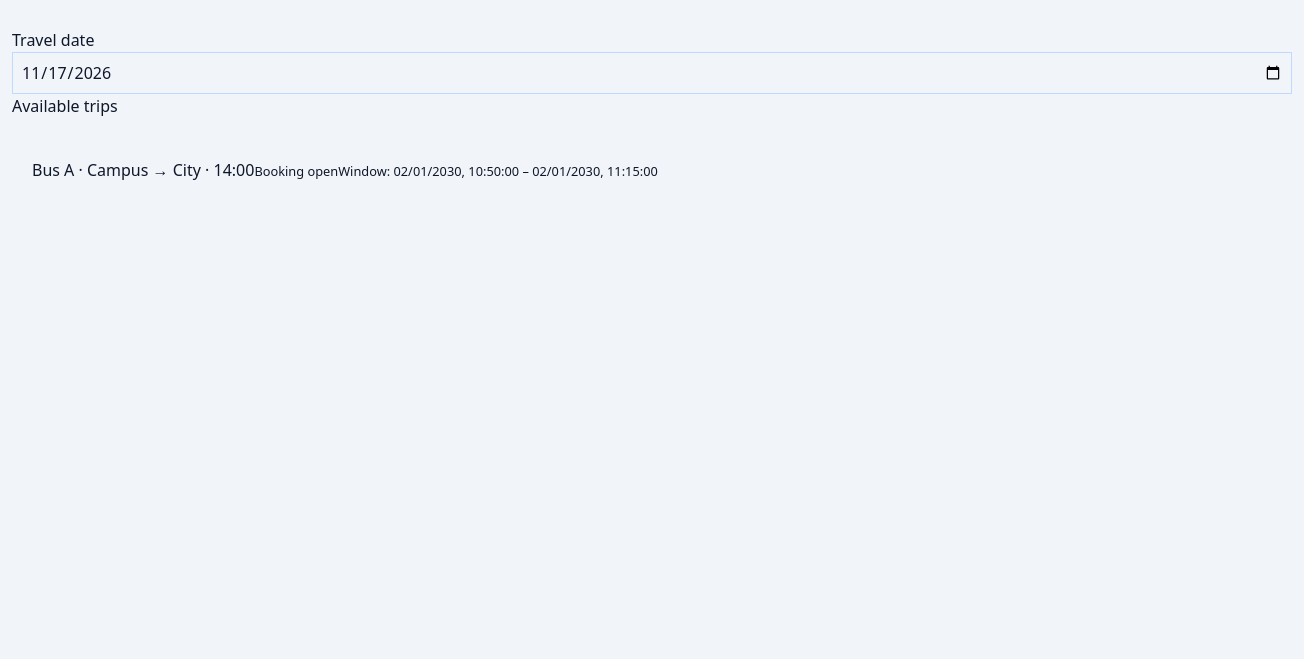
Test: Member 2 student pages › selects trip, seat and confirms booking with in-app success feedback
Expected: the date field labelled "Travel date" is shown, [12, 52, 1292, 94]
Click the button "Bus A". click: [652, 171]
box: [12, 138, 1292, 204]
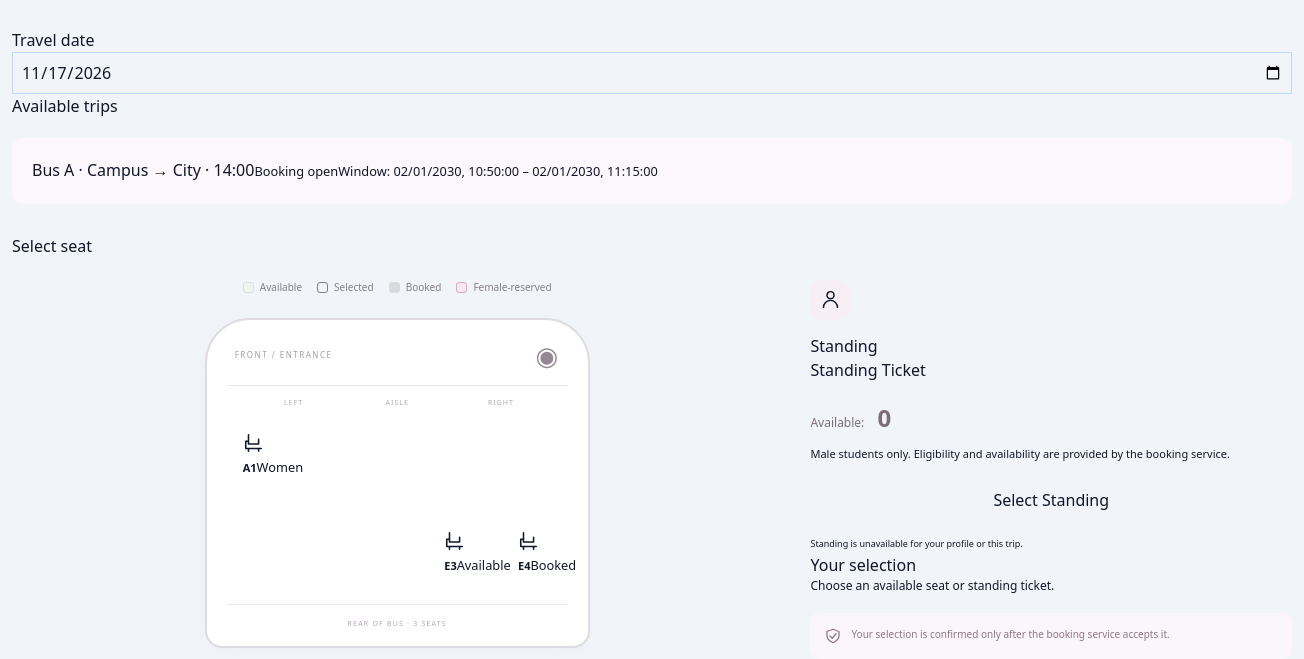
Now the button with aria-label "Seat 1 Reserved" is disabled, box [227, 424, 292, 486]
Now the button with aria-label "Seat 20 Booked" is disabled, box [502, 522, 568, 584]
Click the button with aria-label "Seat 19 Available". click: [461, 553]
box: [428, 522, 494, 584]
(page scrolled)
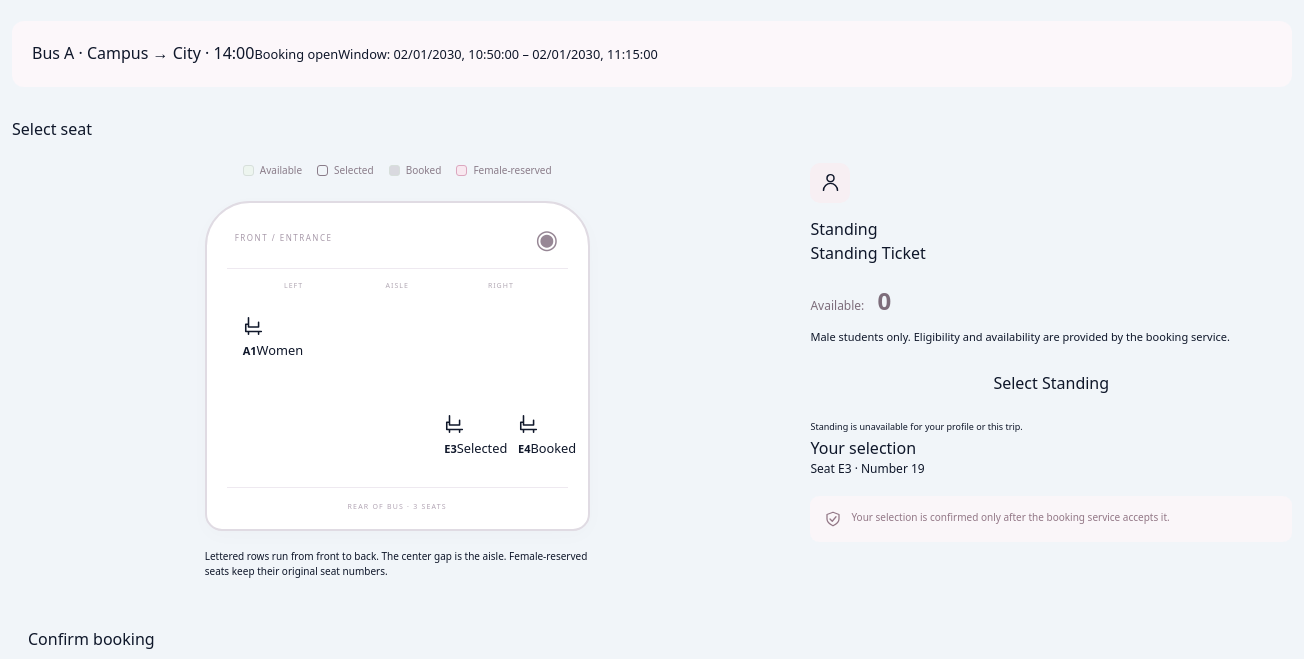
Now the button with aria-label "Seat 19 Selected" is pressed, box [428, 405, 494, 467]
Click the button "Confirm booking". click: [91, 639]
box: [12, 619, 171, 658]
(page scrolled)
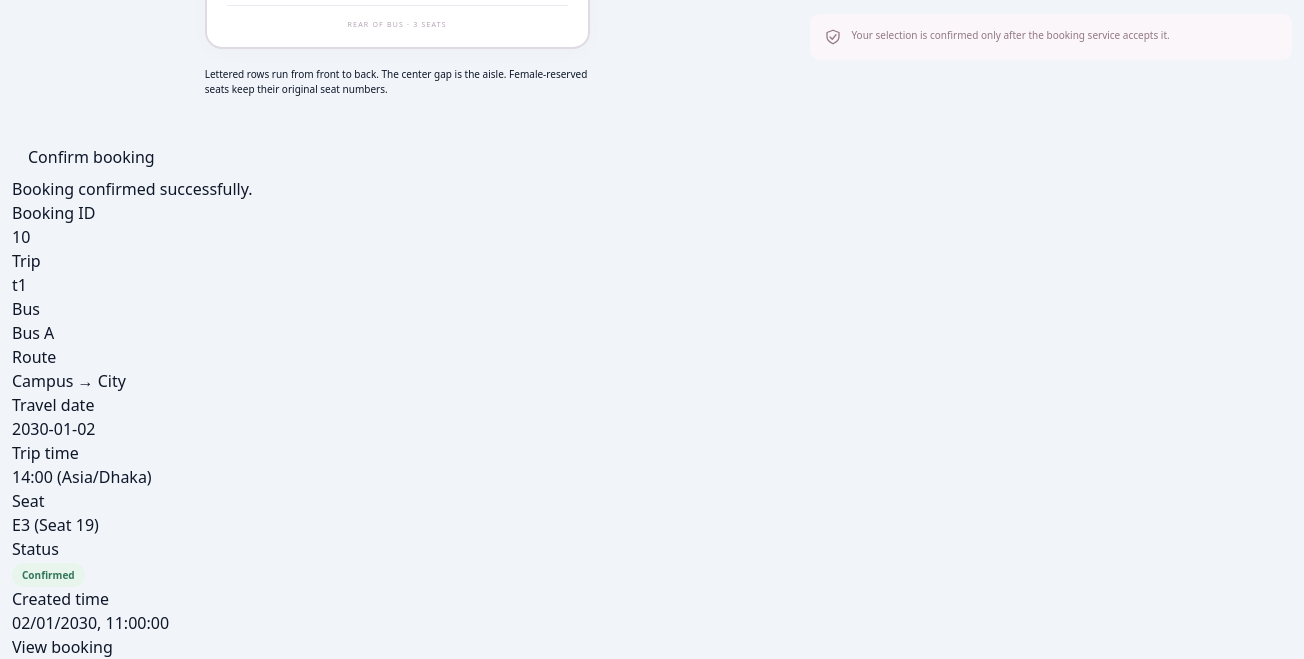
Now the text "Booking confirmed successfully." is shown, box [12, 178, 252, 200]
Now the element named "Booking confirmation" shows "Bus A", box [12, 322, 54, 344]
